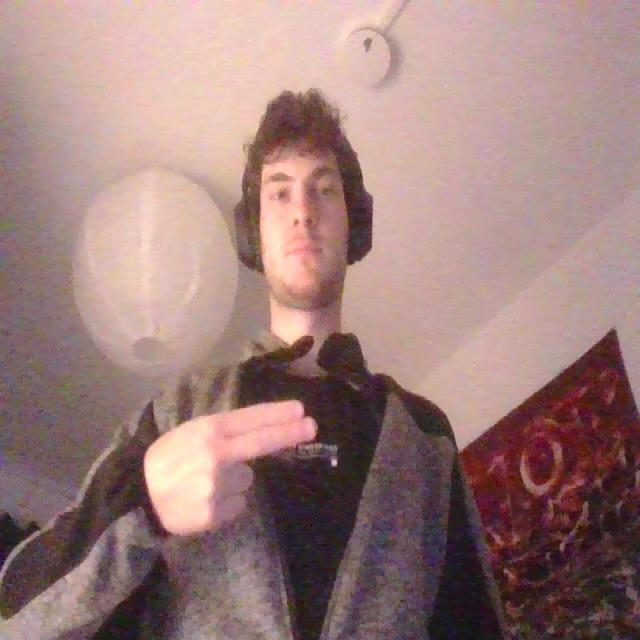right: (135, 395, 327, 537)
